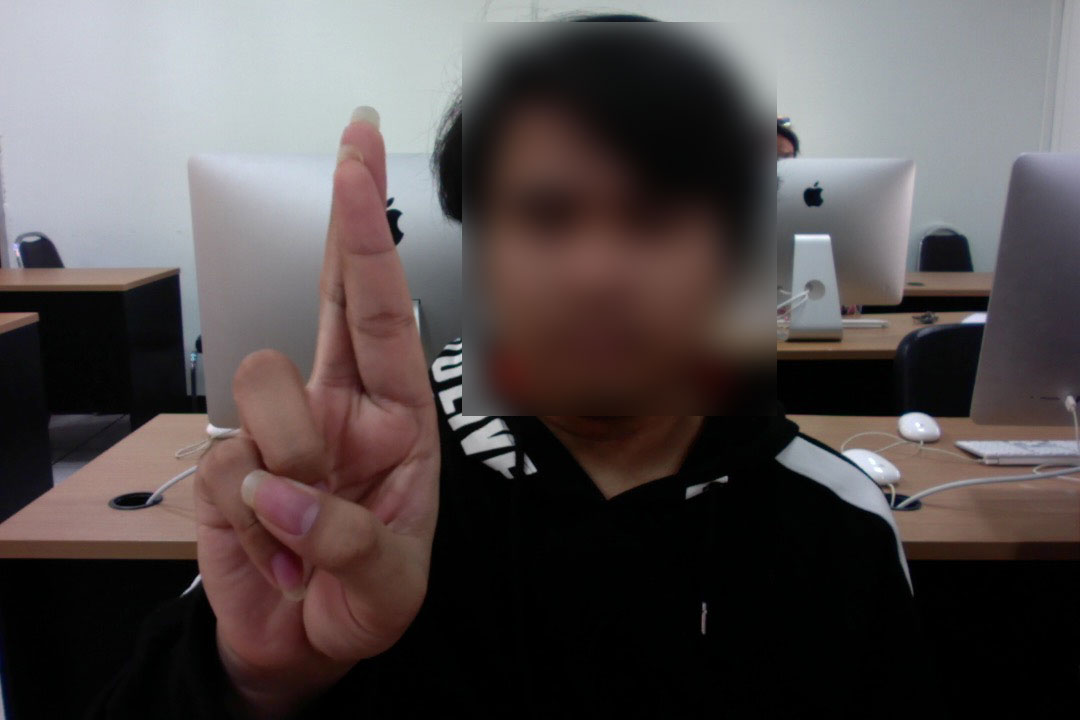rao: (185, 97, 448, 686)
